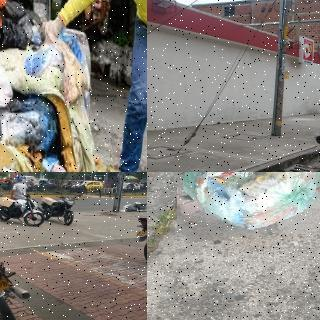Garbage: (173, 172, 320, 239), (126, 204, 138, 212), (137, 203, 147, 211), (314, 132, 320, 145), (122, 203, 131, 211), (133, 201, 142, 206)
